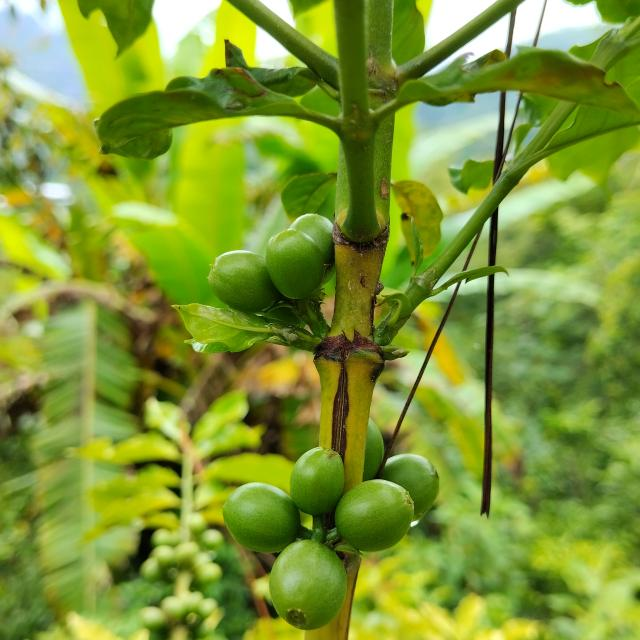green: (269, 541, 347, 631), (335, 480, 415, 552), (222, 483, 301, 554), (208, 250, 281, 312), (266, 229, 324, 299), (381, 454, 440, 522), (290, 448, 344, 517), (290, 213, 335, 264), (363, 419, 384, 482)
